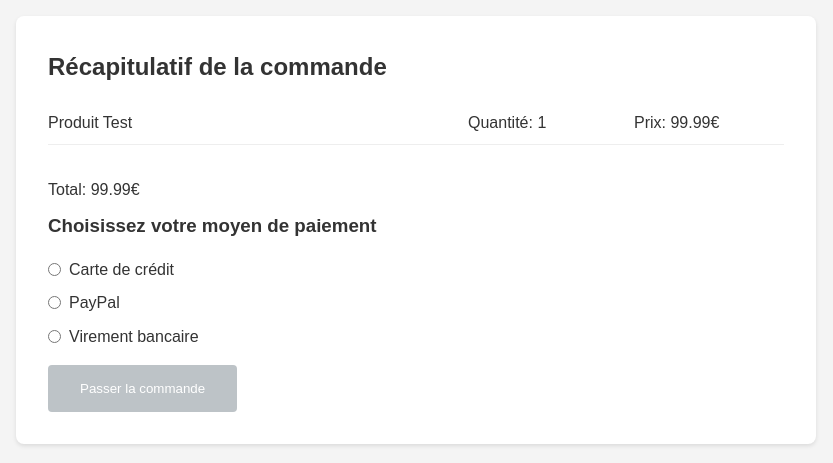
Test: Checkout › permet de choisir un moyen de paiement
Click the radio button labelled "PayPal" at x=54, y=303, box top-left (48, 296), bottom-right (61, 309)
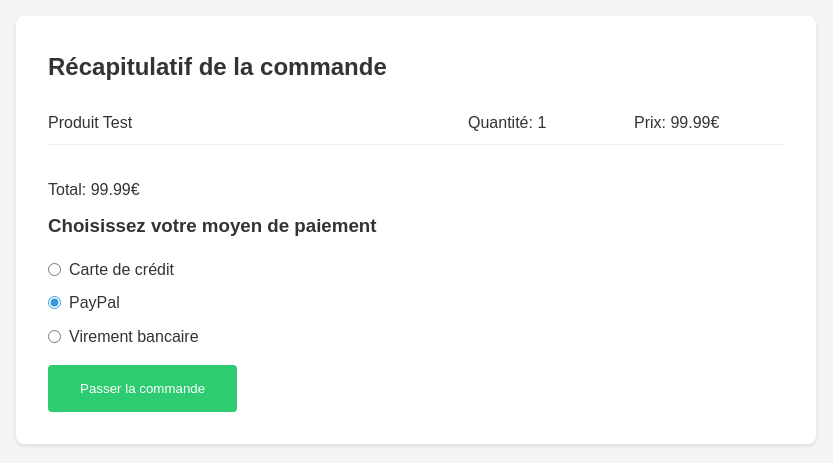
Expected: the button "Passer la commande" is enabled, top-left (48, 365), bottom-right (237, 412)
